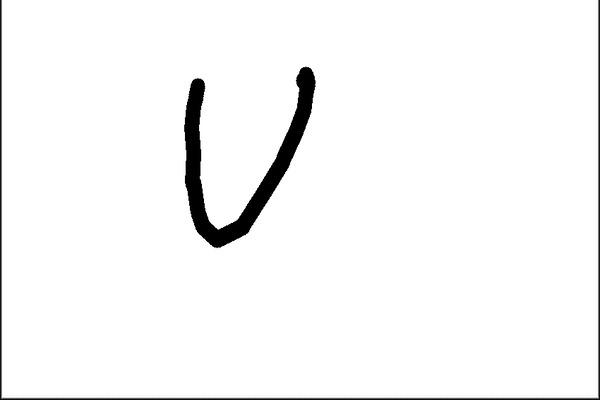U: (170, 51, 325, 251)
